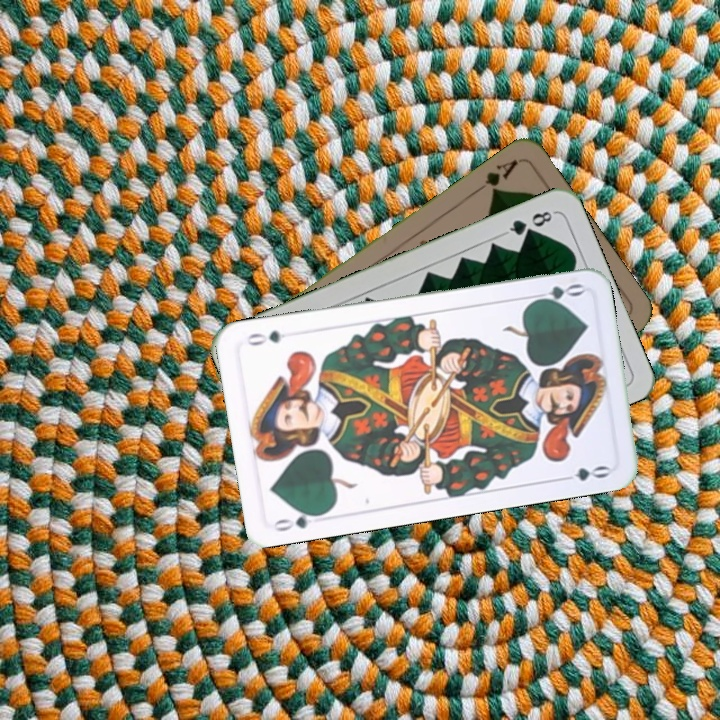G8: (501, 207, 558, 238)
GA: (470, 155, 521, 197)
GO: (269, 506, 329, 534), (526, 279, 586, 306)
